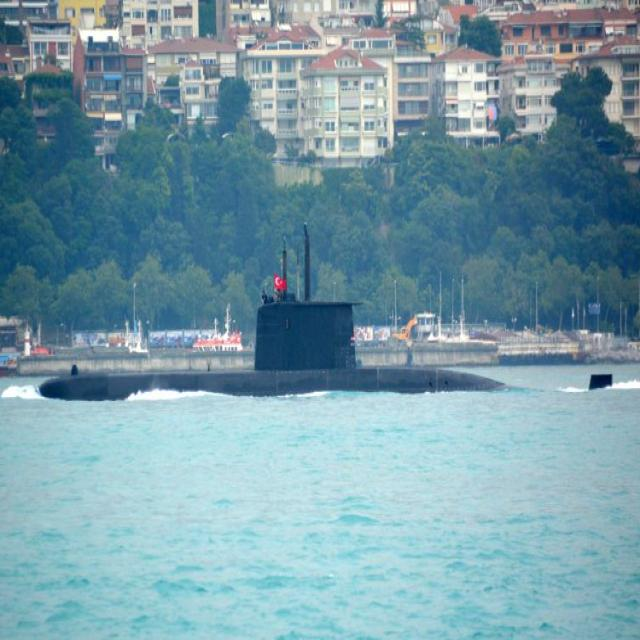submarine: (33, 300, 628, 400)
